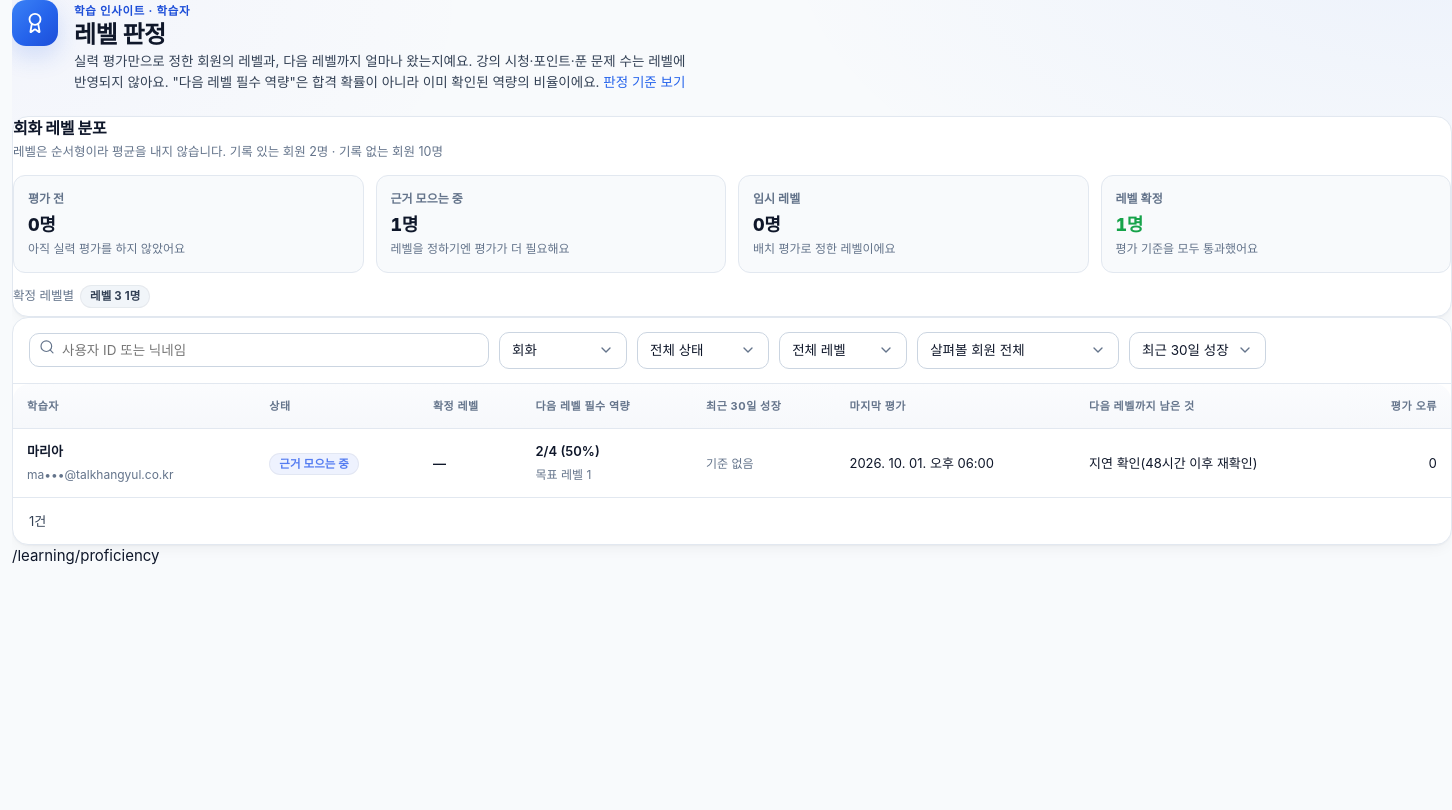
Scenario: 실력 판정 list › filters on every status the server knows, never-assessed learners included
Expected: the text "마리아" is shown, [27,444,63,460]
Click the button "전체 상태" at coordinates (703, 350), box [637,332,769,369]
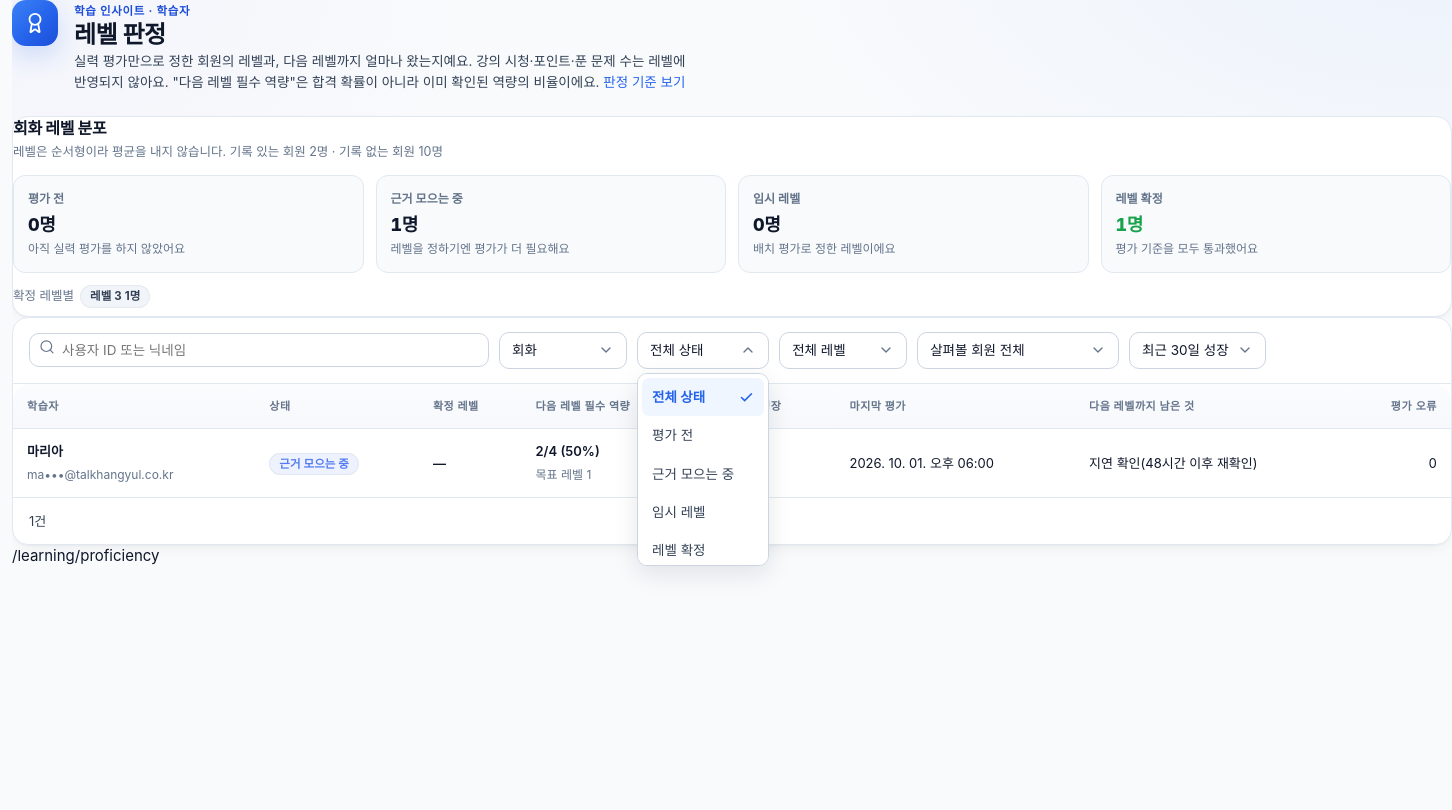
Click the option "평가 전" at coordinates (673, 436), box [652,428,693,444]
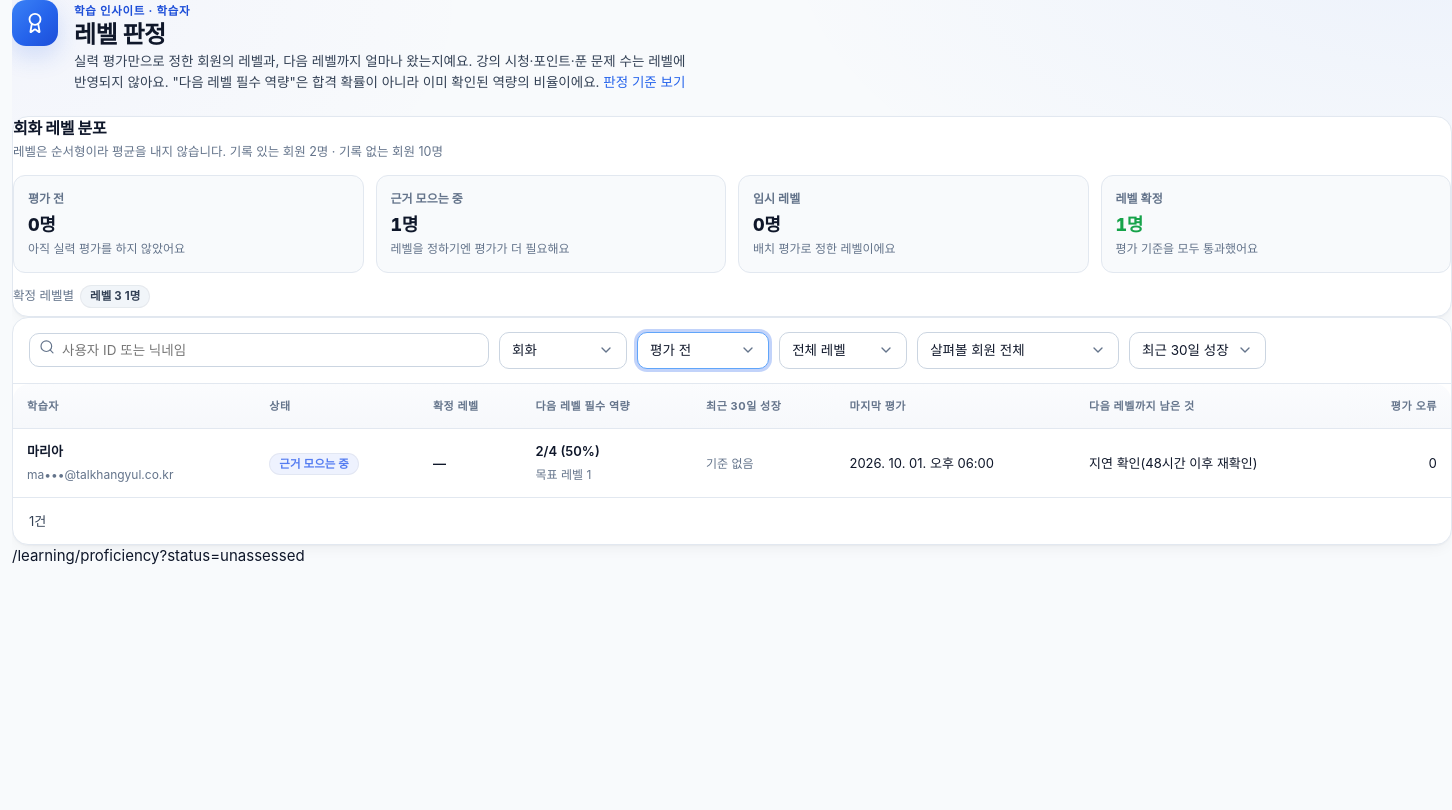
Expected: the text with test id "loc" shows "status=unassessed", [12,546,305,565]
